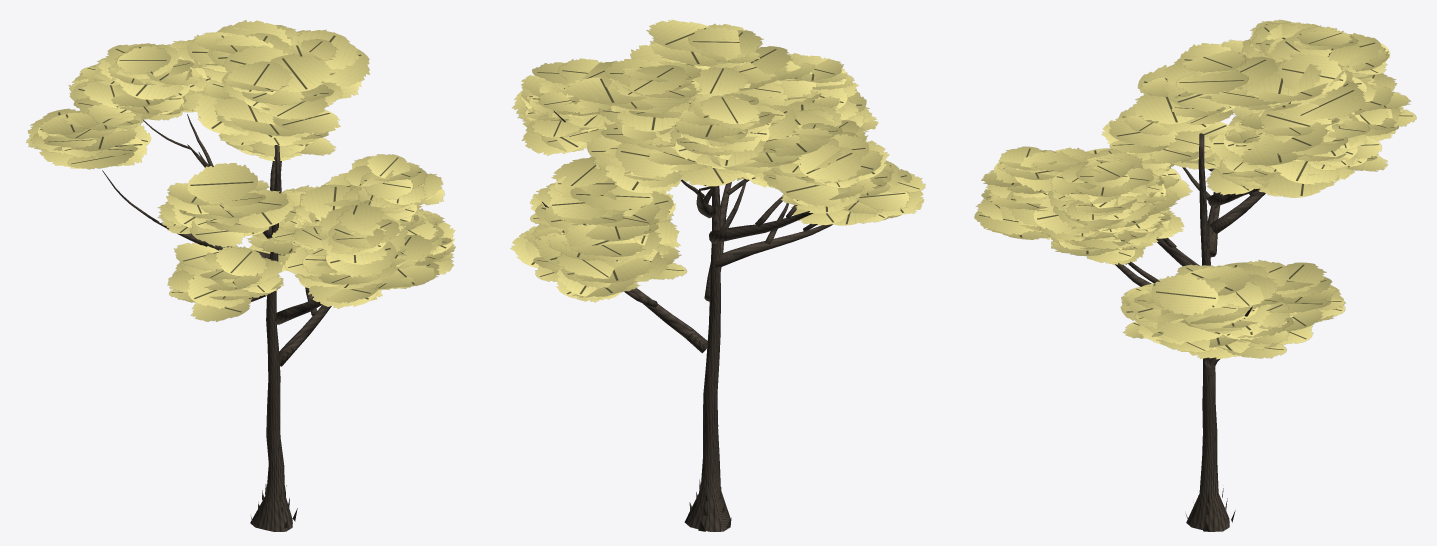
File: beech.glb
The picture shows the model from 3 angles, left to right: view 1: azimuth 30°, elevation 25°; view 2: azimuth 150°, elevation 25°; view 3: azimuth 270°, elevation 25°; orthographic projection. The views are drawn at different scales.
Visible parts, largest first — view 1: canopy_17, canopy_13, canopy_7, canopy_5, canopy_18, canopy_21, canopy_3, canopy_23, trunk, canopy_10, canopy_4, canopy_0 (+10 smaller); view 2: canopy_19, canopy_17, canopy_7, canopy_10, canopy_26, trunk, canopy_8, canopy_21, canopy_0, canopy_9, canopy_5, canopy_18 (+8 smaller); view 3: canopy_17, canopy_14, canopy_4, canopy_10, canopy_23, canopy_13, trunk, canopy_19, canopy_18, canopy_20, canopy_8, canopy_21 (+15 smaller).
Boxes of the visible parts, bbox=[...] form: canopy_17: bbox=[193, 45, 342, 142]; canopy_13: bbox=[157, 163, 294, 247]; canopy_7: bbox=[26, 98, 151, 169]; canopy_5: bbox=[167, 242, 283, 321]; canopy_18: bbox=[284, 203, 419, 284]; canopy_21: bbox=[93, 43, 201, 120]; canopy_3: bbox=[294, 234, 439, 308]; canopy_23: bbox=[325, 154, 444, 220]; trunk: bbox=[250, 145, 297, 531]; canopy_10: bbox=[176, 20, 294, 96]; canopy_4: bbox=[290, 29, 369, 98]; canopy_0: bbox=[68, 55, 194, 120]; canopy_19: bbox=[533, 224, 687, 302]; canopy_17: bbox=[630, 19, 792, 100]; canopy_7: bbox=[763, 123, 889, 213]; canopy_10: bbox=[564, 59, 702, 129]; canopy_26: bbox=[587, 100, 696, 193]; trunk: bbox=[684, 186, 731, 531]; canopy_8: bbox=[524, 186, 680, 249]; canopy_21: bbox=[673, 93, 798, 159]; canopy_0: bbox=[670, 111, 801, 186]; canopy_9: bbox=[520, 79, 611, 155]; canopy_5: bbox=[791, 160, 925, 225]; canopy_18: bbox=[778, 53, 866, 127]; canopy_17: bbox=[1133, 43, 1280, 132]; canopy_14: bbox=[1120, 274, 1246, 352]; canopy_4: bbox=[1241, 101, 1367, 197]; canopy_10: bbox=[1240, 53, 1366, 142]; canopy_23: bbox=[1050, 158, 1165, 221]; canopy_13: bbox=[1101, 106, 1230, 170]; trunk: bbox=[1185, 133, 1235, 531]; canopy_19: bbox=[1247, 259, 1345, 345]; canopy_18: bbox=[985, 146, 1094, 226]; canopy_20: bbox=[1033, 191, 1165, 263]; canopy_8: bbox=[1176, 262, 1295, 337]; canopy_21: bbox=[1256, 30, 1389, 69].
Bounding box in the file's own units: 11.37 × 13.07 × 11.74.
Materials: 2 (2 with a texture image).
